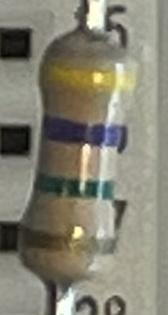Blue: (41, 113, 126, 152)
Green: (25, 172, 116, 209)
Side-Silver: (13, 222, 118, 260)
Yellow: (30, 61, 138, 101)
